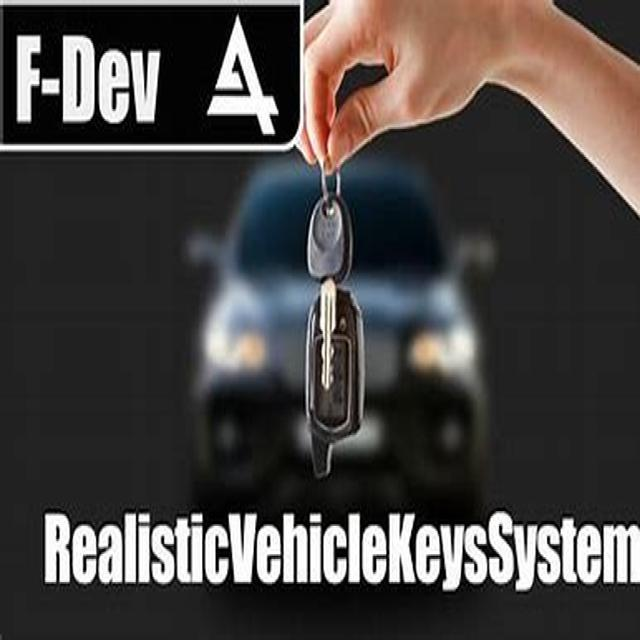key: (290, 171, 370, 470)
